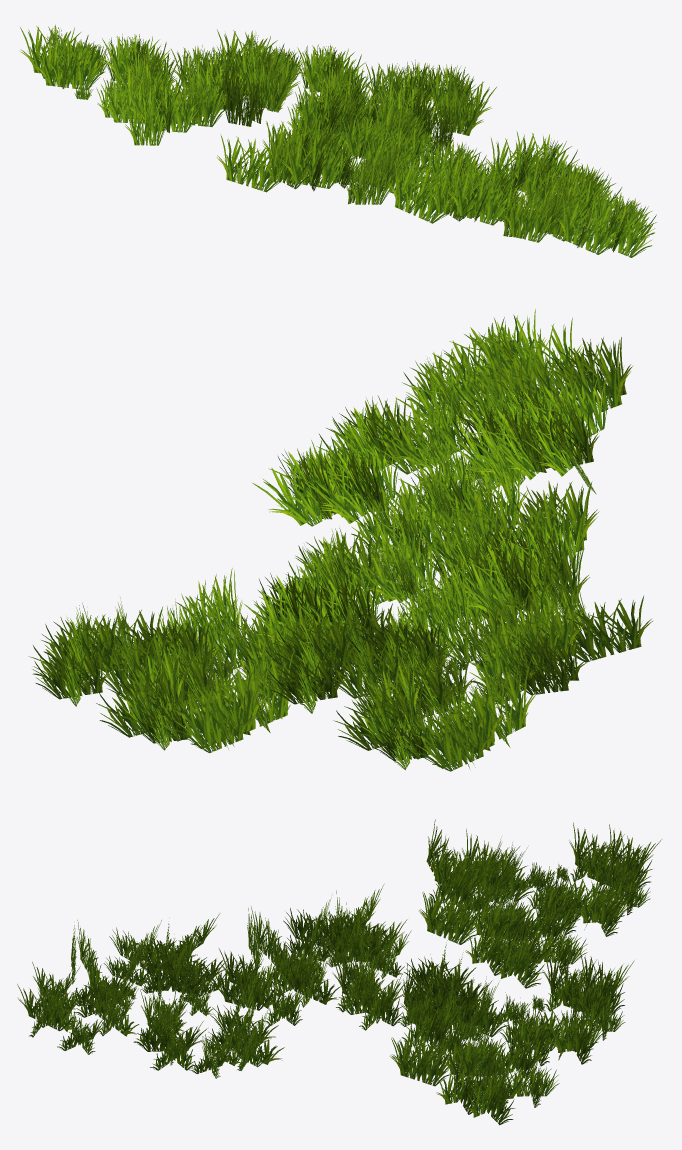
File: cimenler.FBX
The picture shows the model from 3 angles, top to bottom: view 1: azimuth 30°, elevation 25°; view 2: azimuth 150°, elevation 25°; view 3: azimuth 270°, elevation 25°; orthographic projection. The views are drawn at different scales.
Visible parts, largest first — view 1: Object018; view 2: Object018; view 3: Object018.
Boxes of the visible parts, x1,y1,x2,y2 form: Object018: [20, 24, 656, 257]; Object018: [28, 309, 653, 771]; Object018: [17, 819, 661, 1125].
Size of the model in its own units: 694 by 253 by 998.
Materials: 1 (1 with a texture image).
